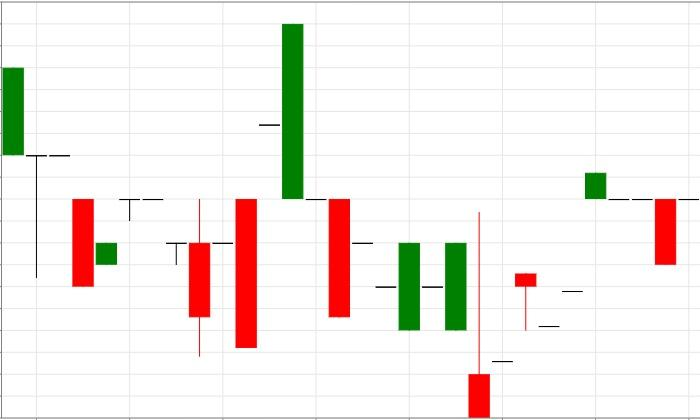inverse_hammer_rise: (282, 24, 490, 419)
